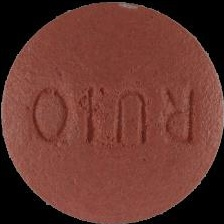61786-835: (0, 0, 224, 224)
